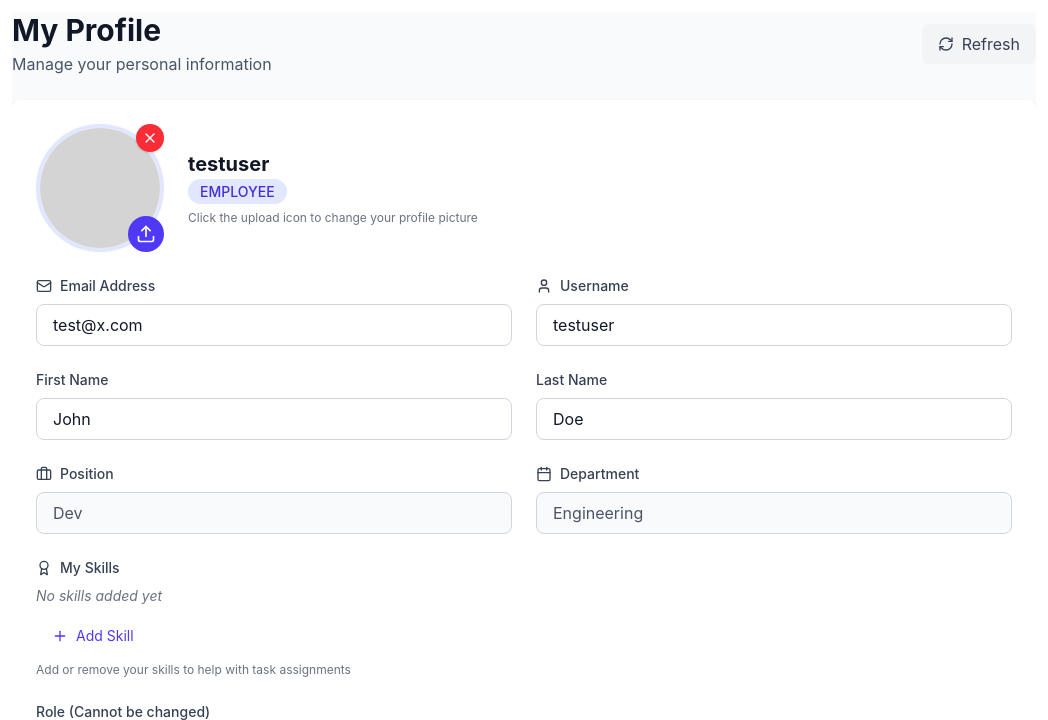
Test: ProfilePage coverage dedicated › removes profile image when X button is clicked
Click the button titled "Remove profile picture". click: x=150, y=138
box: [136, 124, 164, 152]
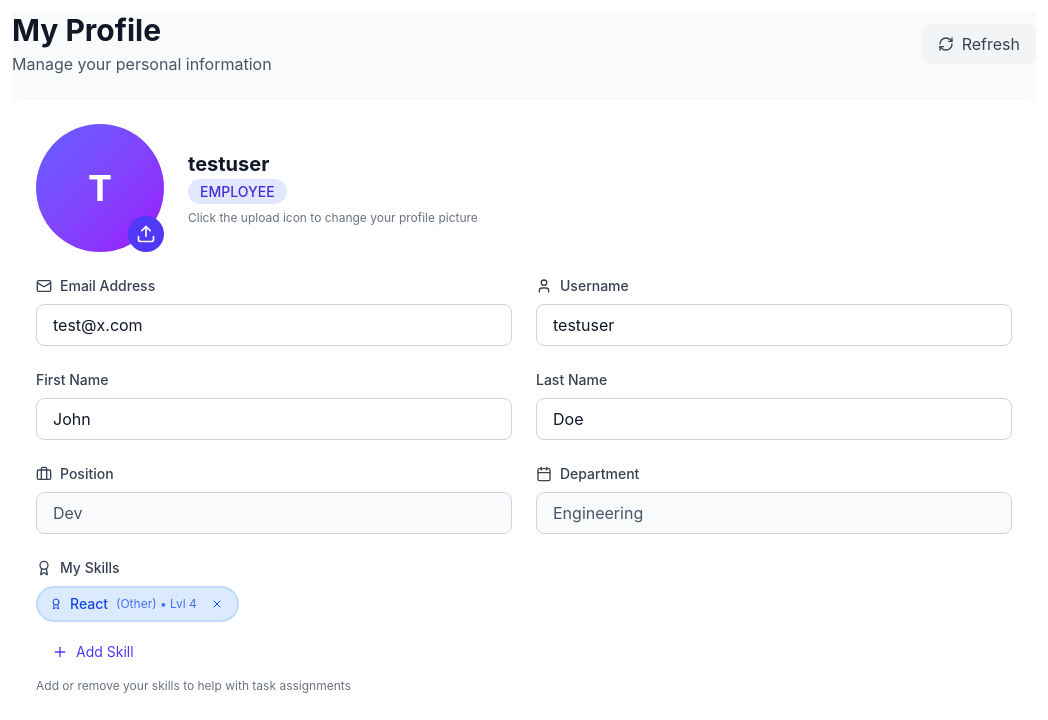
Now the picture with alt text "Profile" is gone
